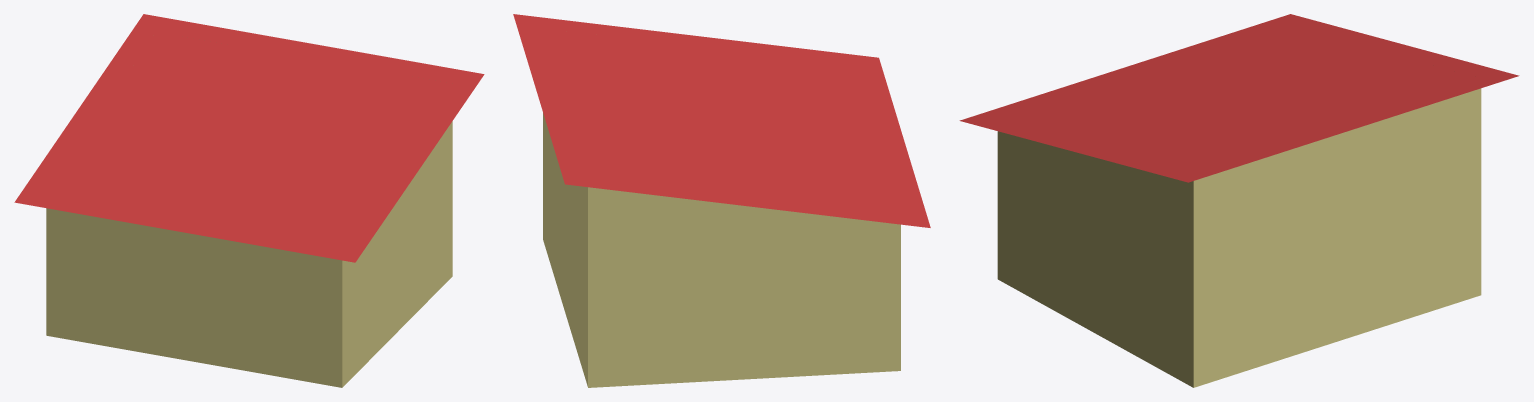
3 renders of one model, left to right at view 1: azimuth 30°, elevation 25°; view 2: azimuth 150°, elevation 25°; view 3: azimuth 270°, elevation 25°, orthographic. The views are drawn at different scales.
Size of the model in its own units: 20.14 by 20.4 by 8.9.
